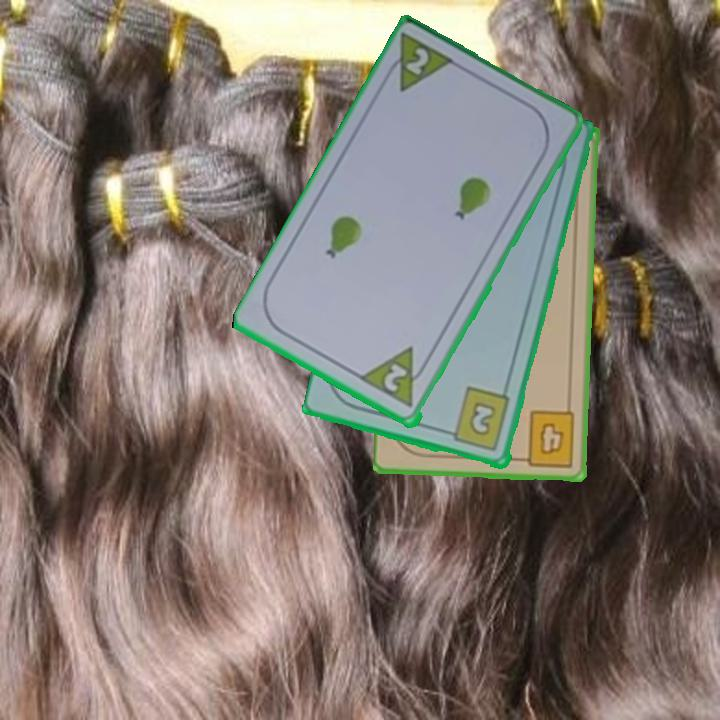2b: (441, 384, 513, 455)
2p: (380, 360, 411, 395), (402, 44, 433, 79)
4b: (514, 407, 578, 470)
